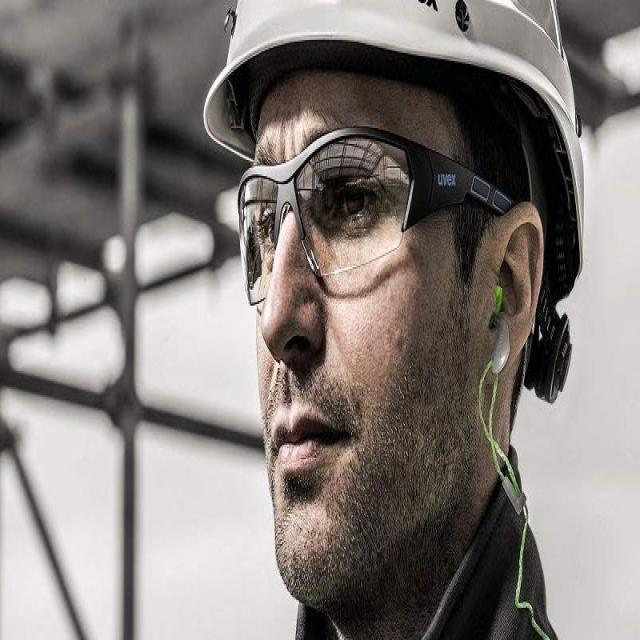goggles: (240, 140, 490, 290)
helmet: (202, 0, 581, 118)
